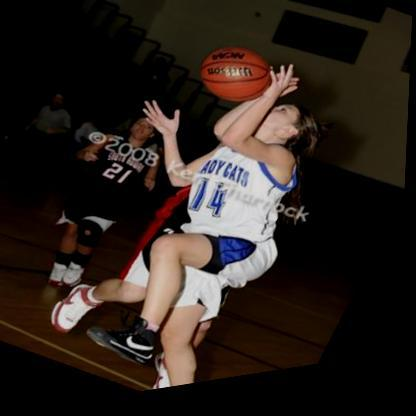basketball: (190, 37, 282, 126)
